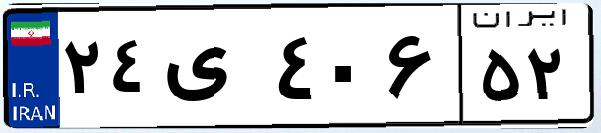0: (330, 28, 385, 110)
2: (57, 26, 110, 100), (525, 38, 570, 115)
4: (270, 28, 330, 110), (110, 28, 158, 98)
5: (475, 38, 525, 113)
6: (385, 28, 445, 110)
ی: (158, 20, 270, 120)
